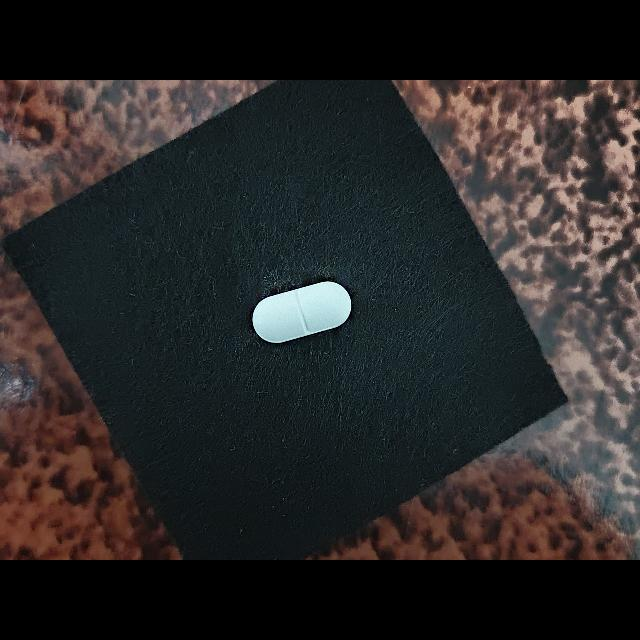Intact Pill: (253, 281, 351, 343)
